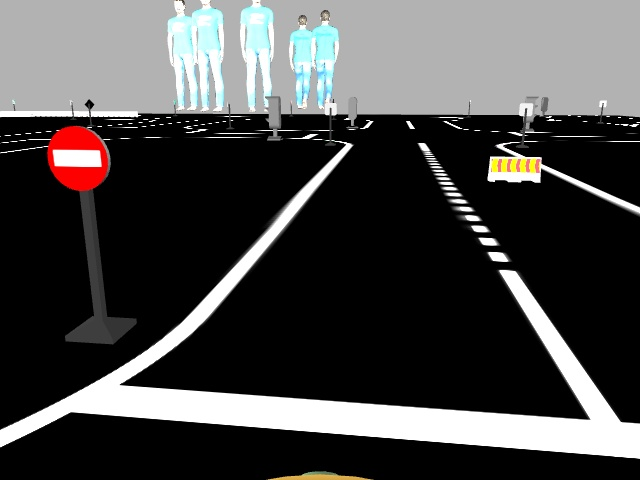ClosedRoadStand: (489, 157, 541, 181)
NoEntry: (46, 127, 109, 185)
